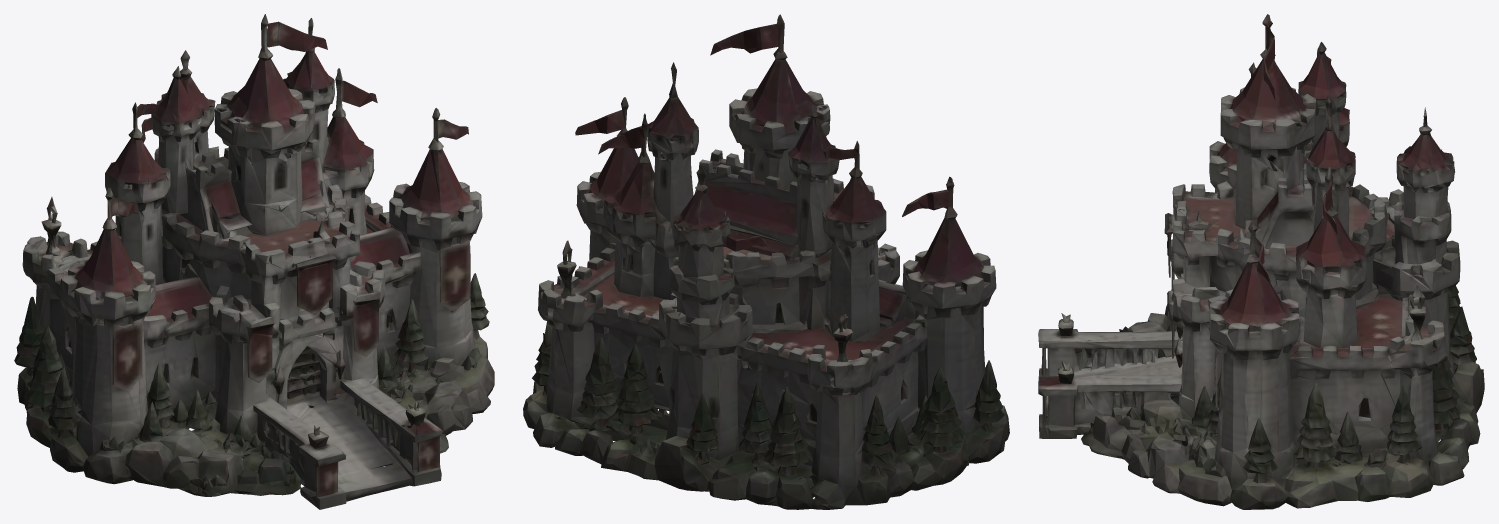
File: war_castle_01.glb
The picture shows the model from 3 angles, left to right: view 1: azimuth 30°, elevation 25°; view 2: azimuth 150°, elevation 25°; view 3: azimuth 270°, elevation 25°; orthographic projection.
Parts seen in each view (by area): view 1: geometry_0; view 2: geometry_0; view 3: geometry_0.
Boxes of the visible parts, left/top/right/bottom form: geometry_0: left=14, top=14, right=494, bottom=509; geometry_0: left=523, top=14, right=1009, bottom=509; geometry_0: left=1038, top=14, right=1484, bottom=509.
Size of the model in its own units: 0.9985 by 0.8743 by 0.8916.
1 material, 1 textured.
